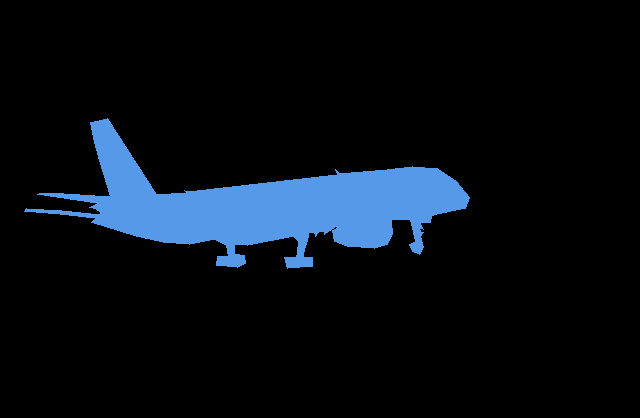Airplane: (24, 118, 469, 269)
